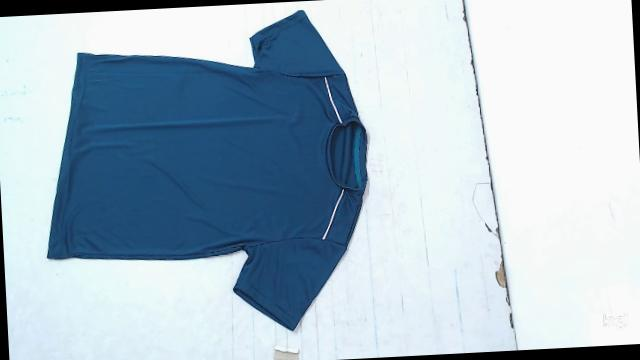new-garment: (47, 10, 367, 329)
